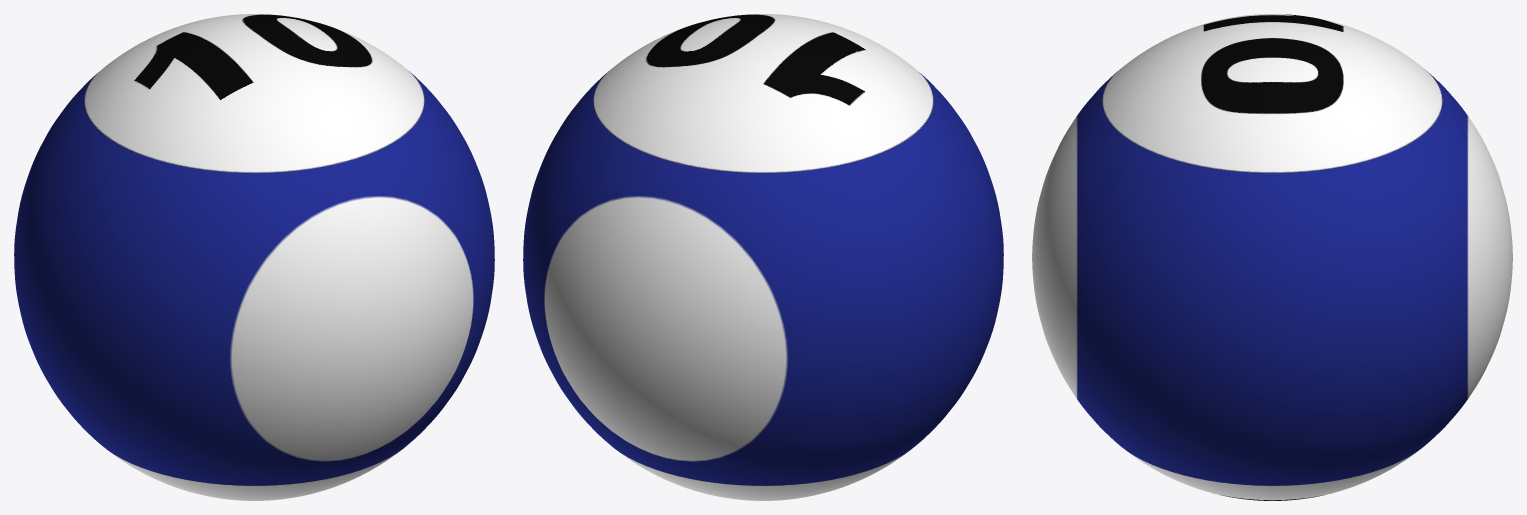
3 renders of one model, left to right at view 1: azimuth 30°, elevation 25°; view 2: azimuth 150°, elevation 25°; view 3: azimuth 270°, elevation 25°, orthographic.
Parts seen in each view (by area): view 1: 10-ten; view 2: 10-ten; view 3: 10-ten.
Boxes of the visible parts, <box> form: 10-ten: <box>14,14,494,500</box>; 10-ten: <box>523,14,1003,500</box>; 10-ten: <box>1032,14,1512,500</box>.
Bounding box in the file's own units: 0.4996 × 0.5085 × 0.4996.
Materials: 1 (1 with a texture image).
